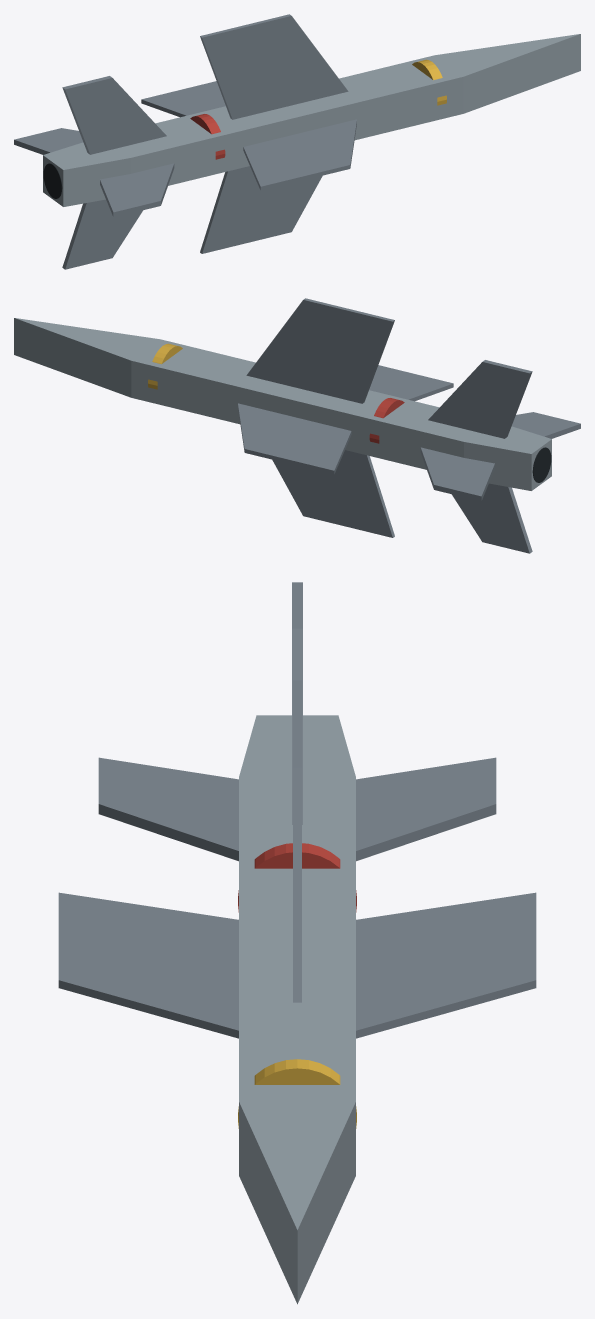
File: agm_158c_lrasm.glb
3 views of the same model, one above another, from view 1: azimuth 30°, elevation 25°; view 2: azimuth 150°, elevation 25°; view 3: azimuth 270°, elevation 25° (orthographic). The views are drawn at different scales.
Visible parts, largest first — view 1: agm_158c_lrasm; view 2: agm_158c_lrasm; view 3: agm_158c_lrasm.
Part boxes in pixels (<box>): agm_158c_lrasm: <box>14,14,580,269</box>; agm_158c_lrasm: <box>14,298,580,553</box>; agm_158c_lrasm: <box>58,582,536,1304</box>.
Size of the model in its own units: 10 by 3.91 by 3.91.
